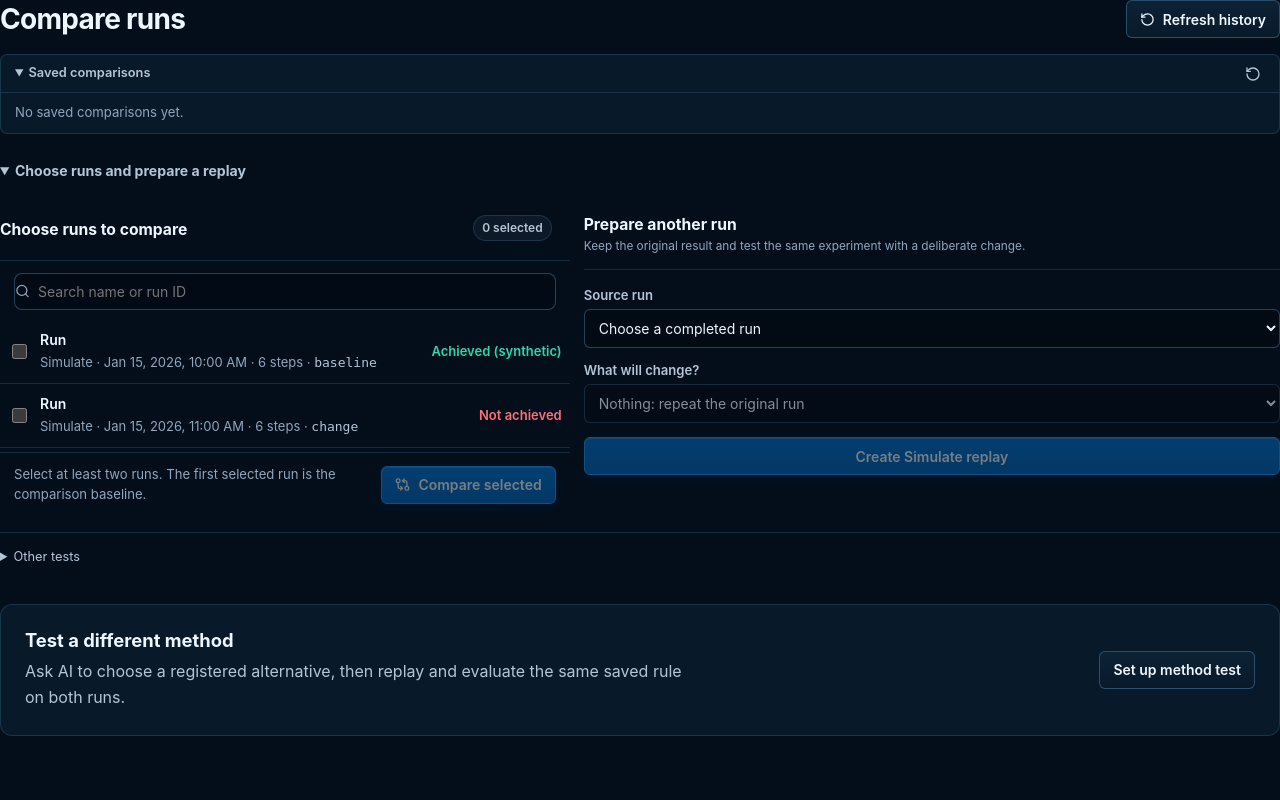
Test case: discards a late comparison after navigation changes and never exposes its detector export
Expected: the heading "Compare runs" is shown, x1=0 y1=2 x2=185 y2=36
Click the 1st checkbox at (20, 351), box x1=12 y1=344 x2=27 y2=359
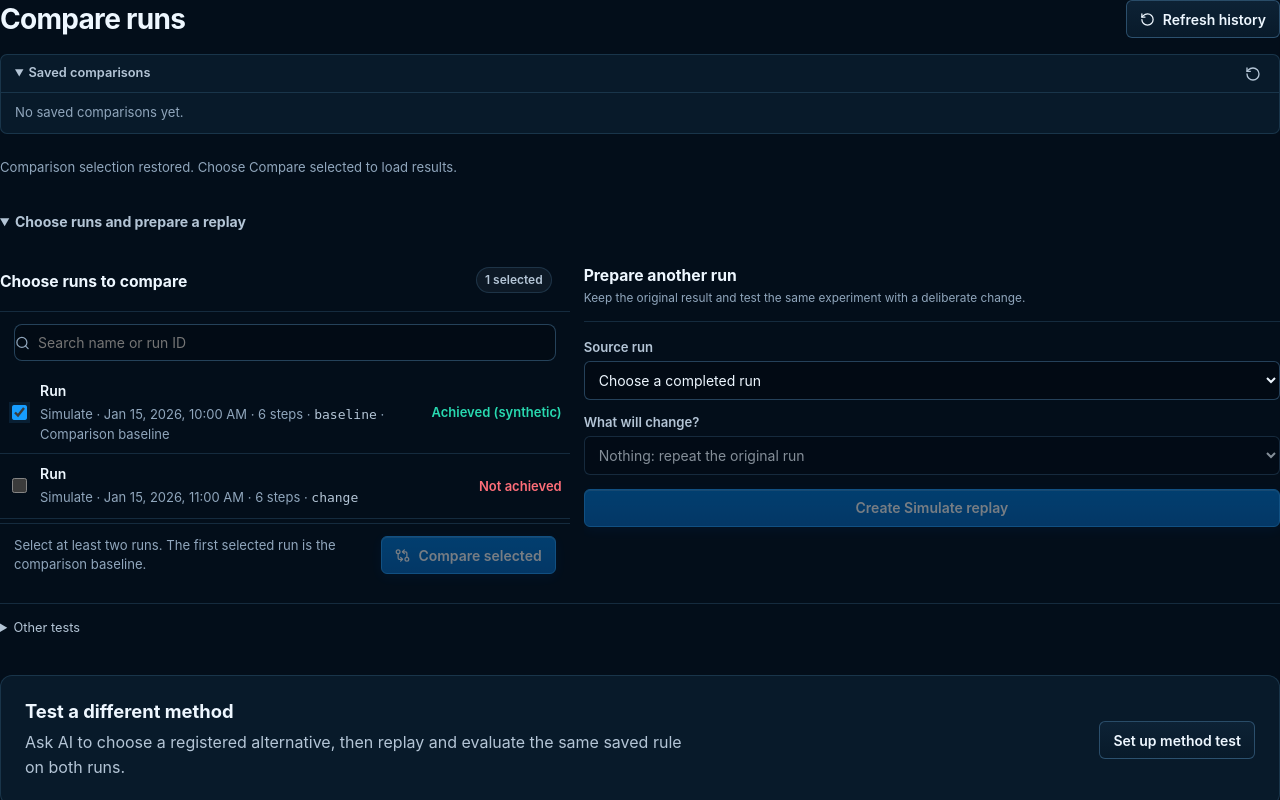
Click the 2nd checkbox at (20, 486), box x1=12 y1=478 x2=27 y2=493
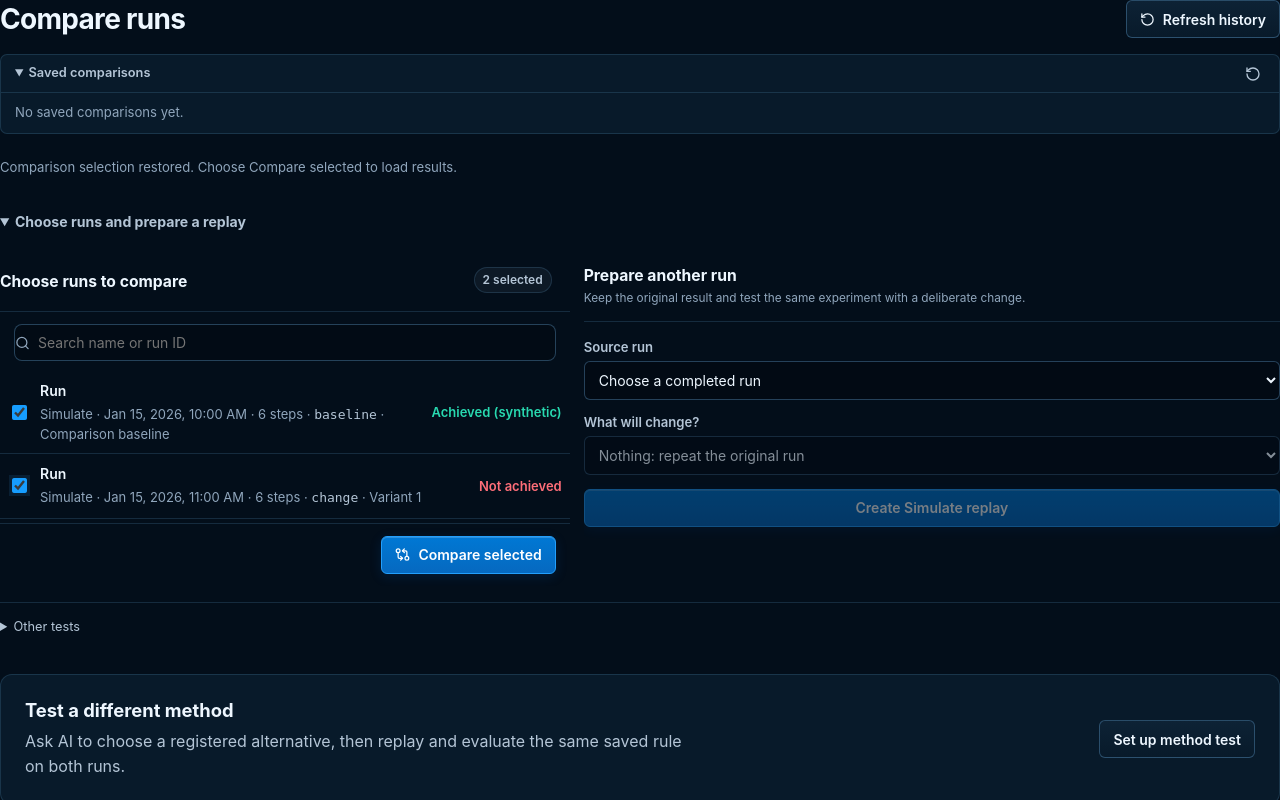
Click the button "Compare selected" at (469, 554), box x1=381 y1=536 x2=556 y2=574
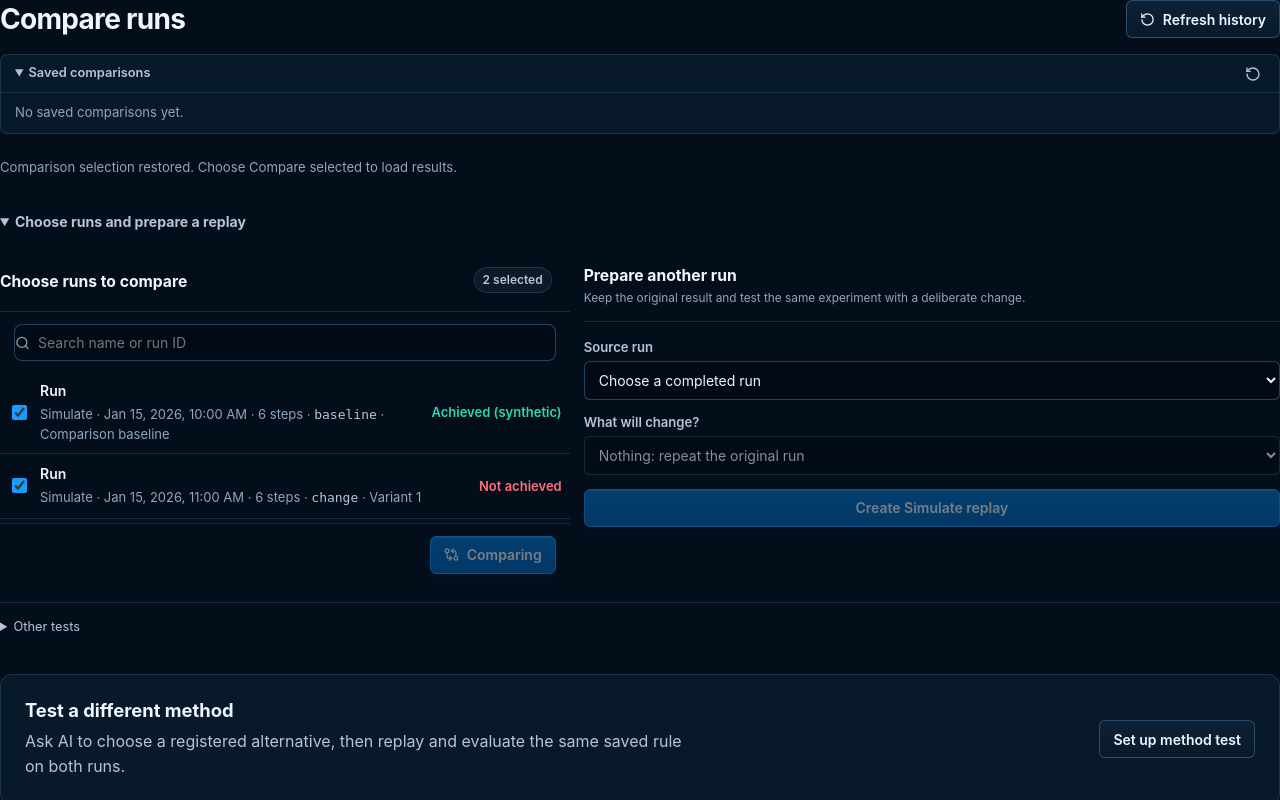
Select "Run · Simulate · Jan 15, 2026, 11:00 AM" in the dropdown labelled "Source run" at (932, 380), box x1=584 y1=361 x2=1279 y2=400
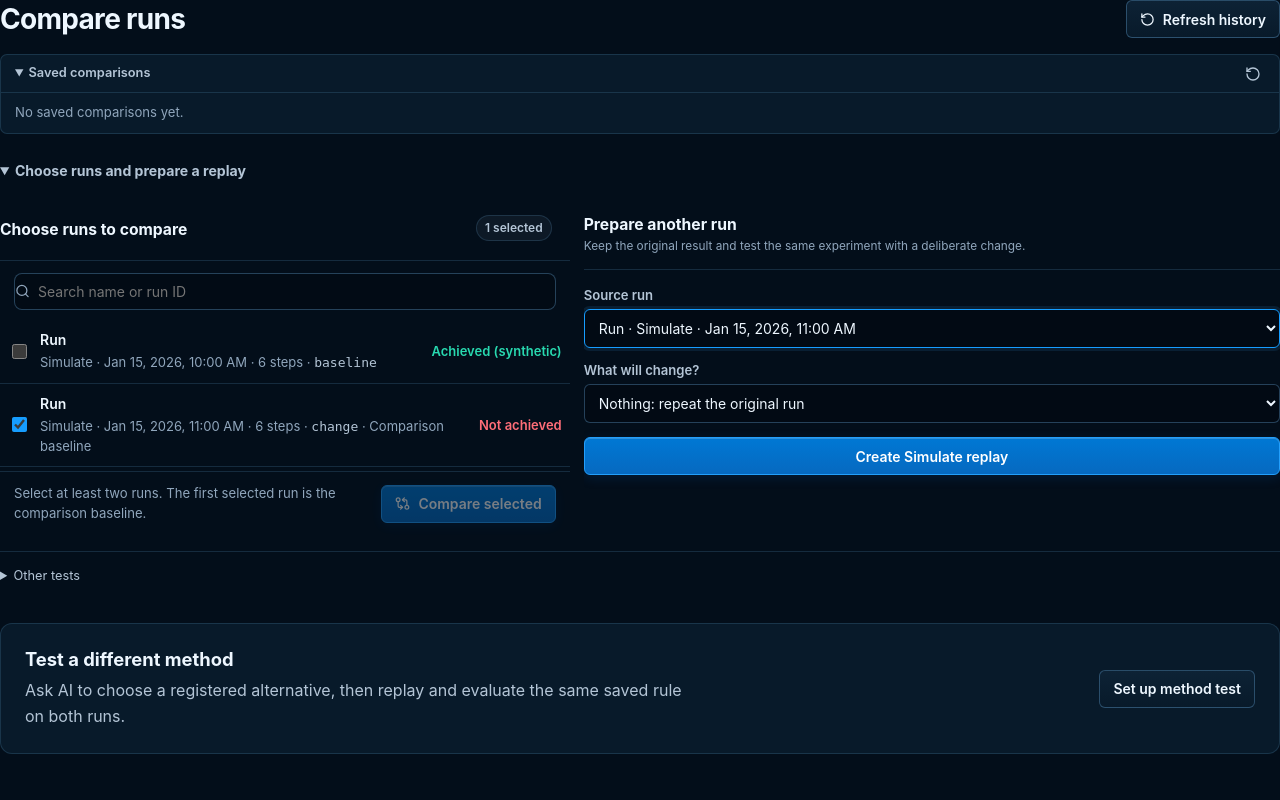
Expected: the button "Compare selected" is disabled, x1=381 y1=484 x2=556 y2=522
Expected: the text "Select at least two runs" is shown, x1=14 y1=485 x2=336 y2=520
